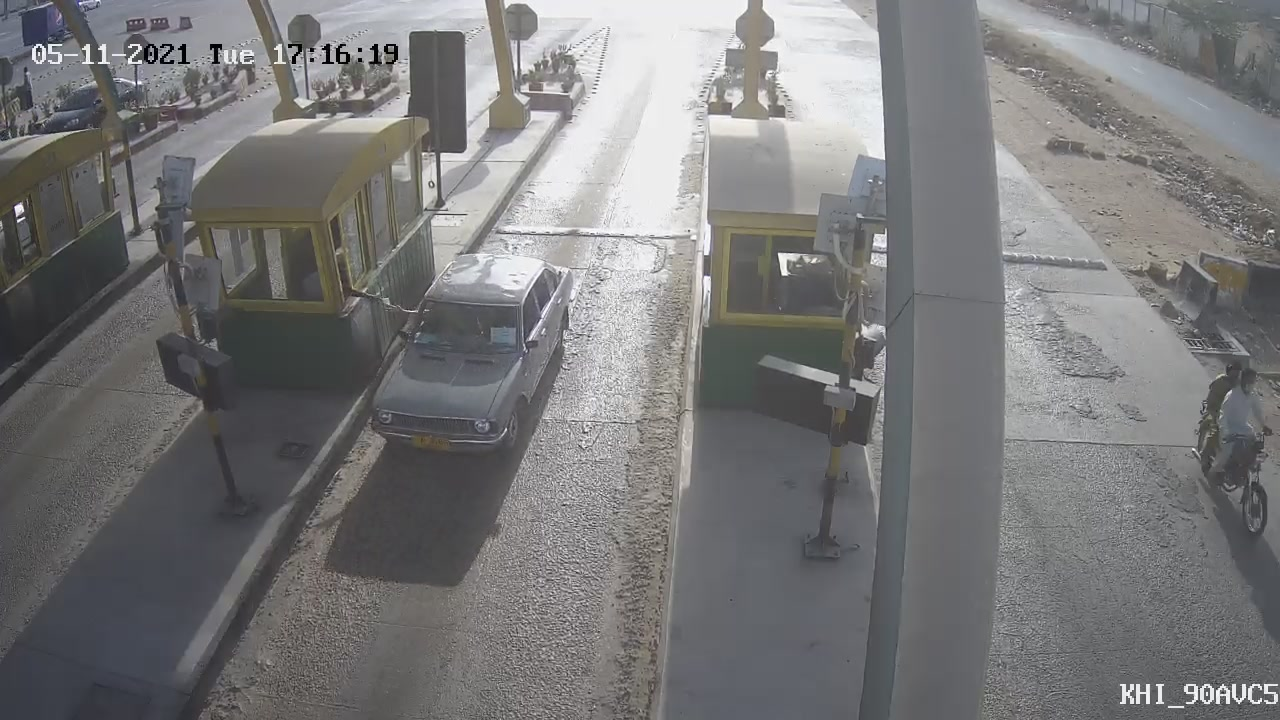F1: (342, 234, 595, 481)
